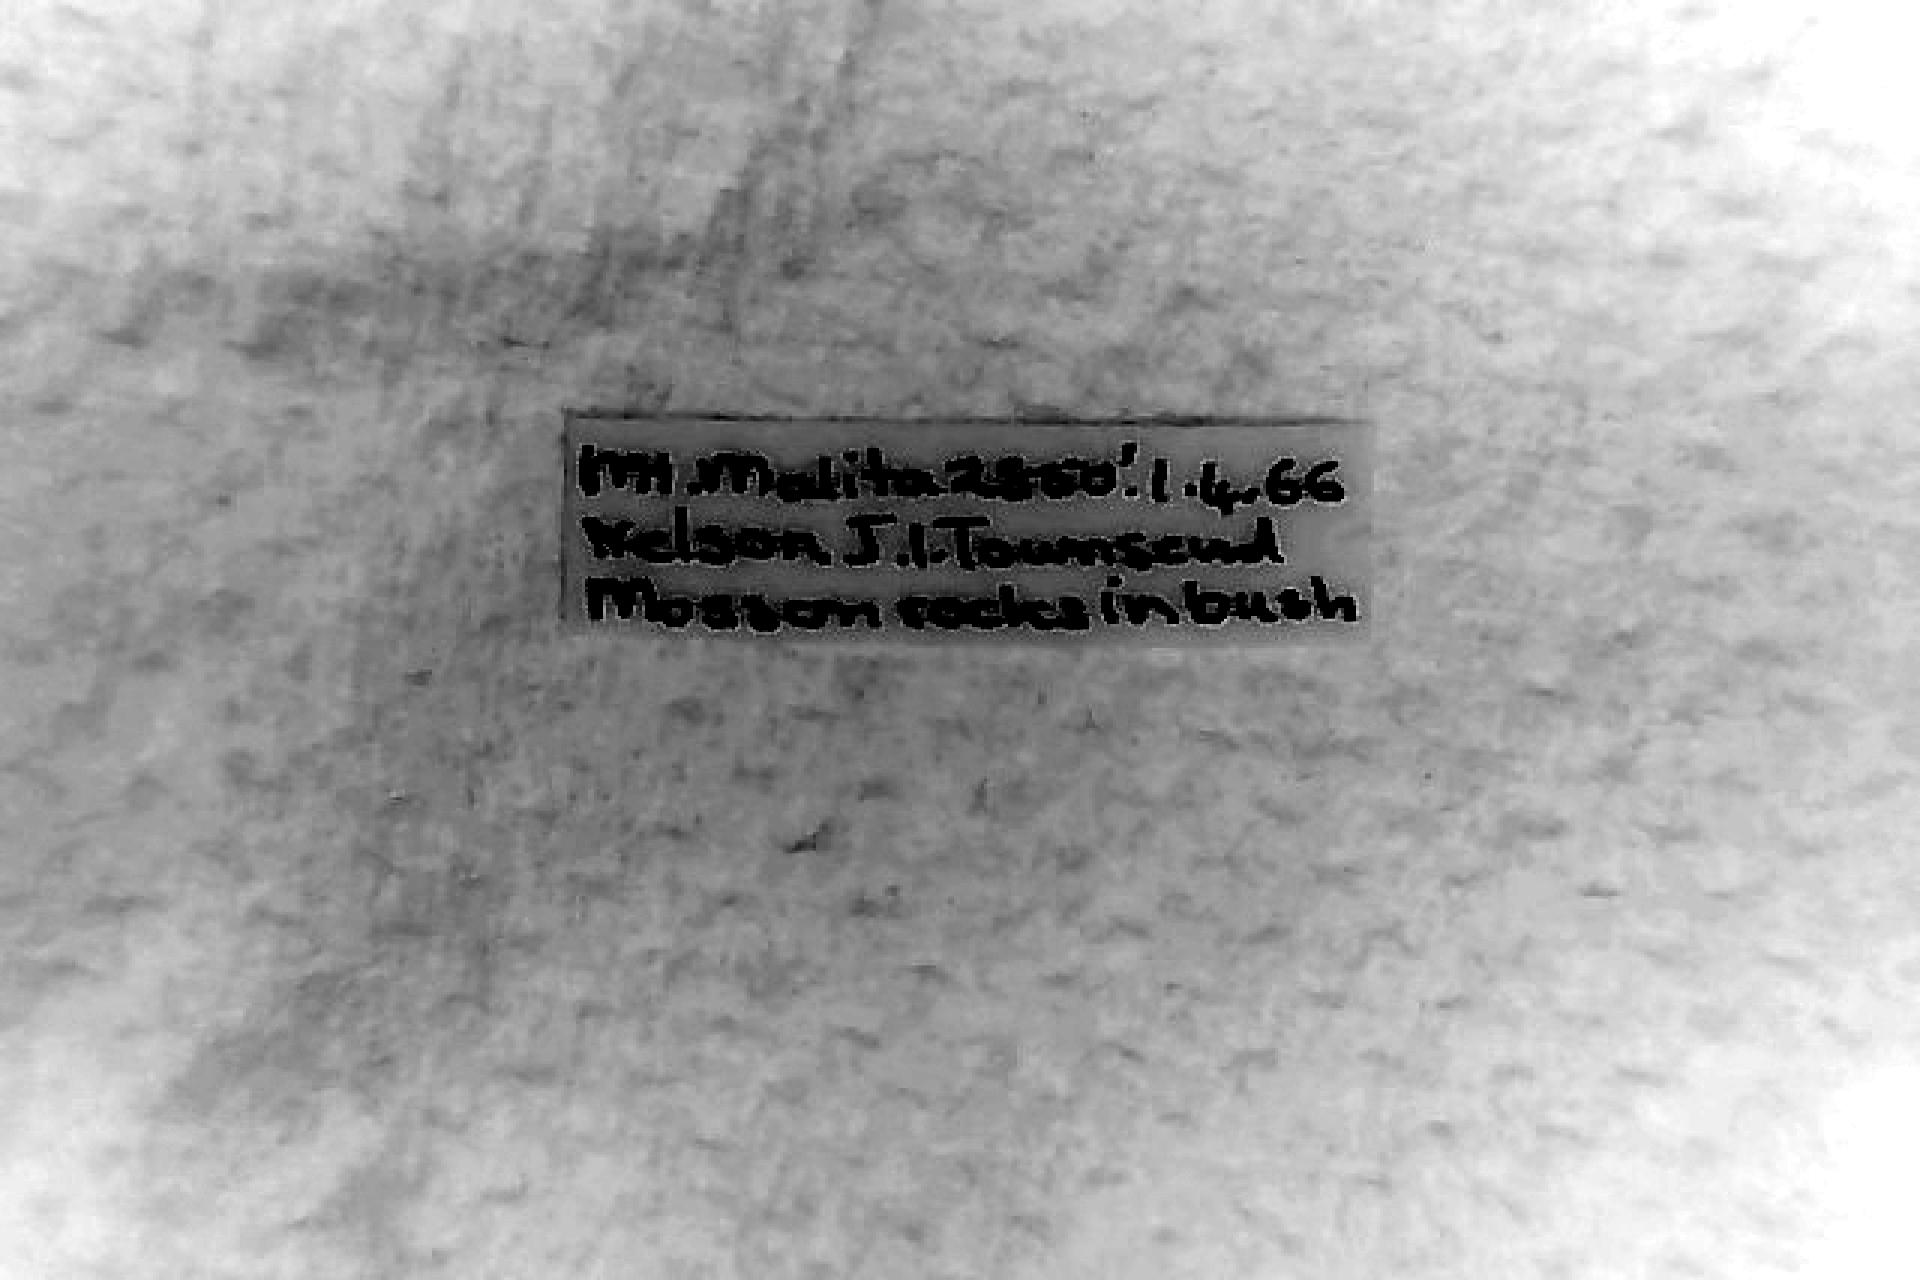hand_label: (566, 417, 1373, 639)
